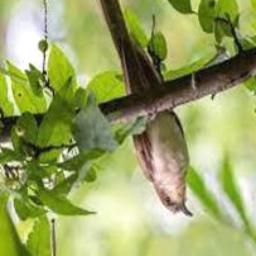Cuckoo: (86, 0, 194, 218)
